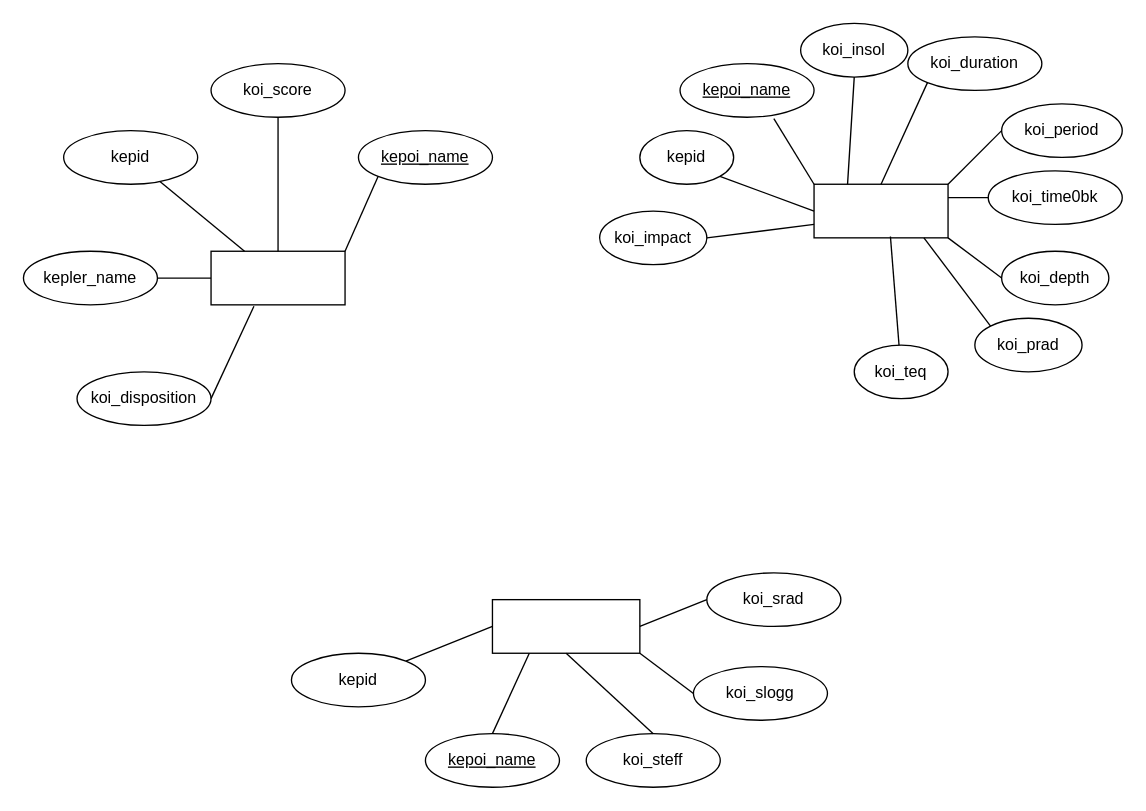
The diagram is 1146 pixels wide and 811 high, and some of its shapes have lost their labels. The shapes that lost their labels are listed below. From the top down, each one's box as (x1, y1, x2, y2) in pixels, then its label:
(813, 183, 948, 238): Transit_Properties
(210, 250, 345, 305): Exoplanet_info
(491, 598, 640, 653): Stellar_Parameters
